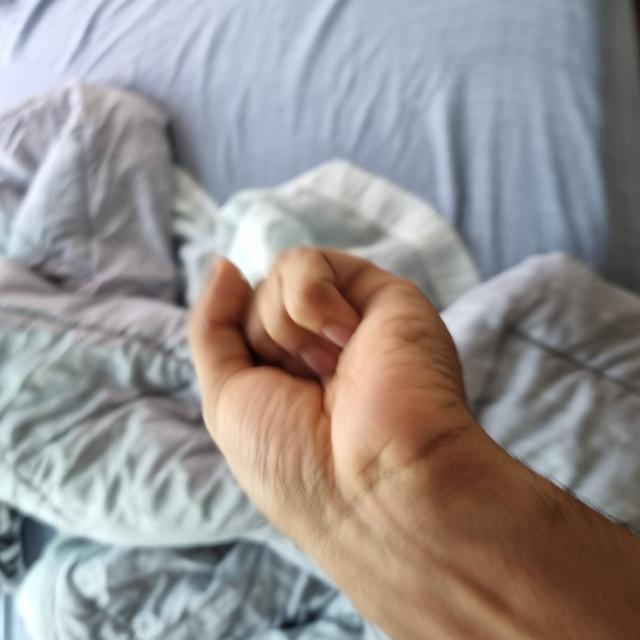Rock: (4, 194, 388, 506)
